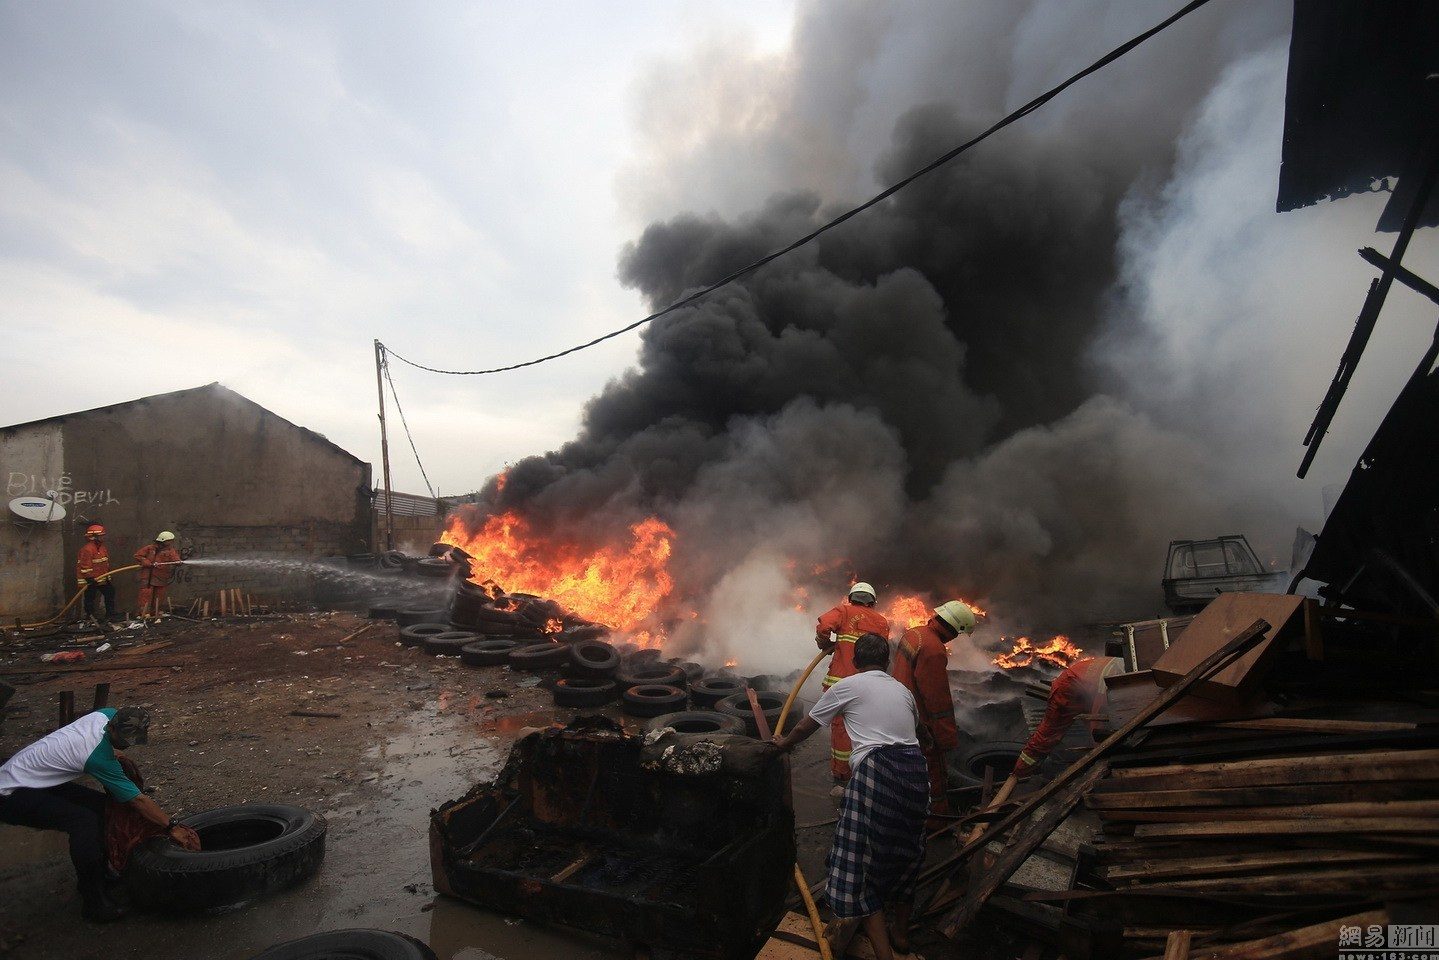fire: (439, 486, 695, 669)
